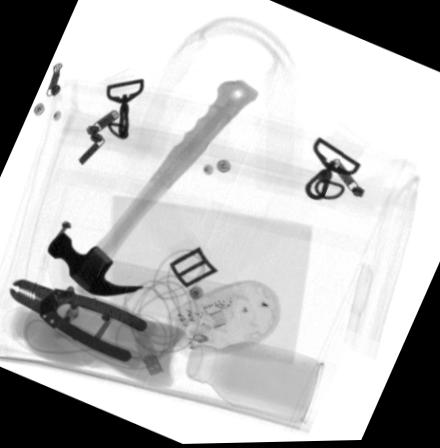Hammer: (46, 80, 260, 298)
Pliers: (10, 279, 148, 363)
